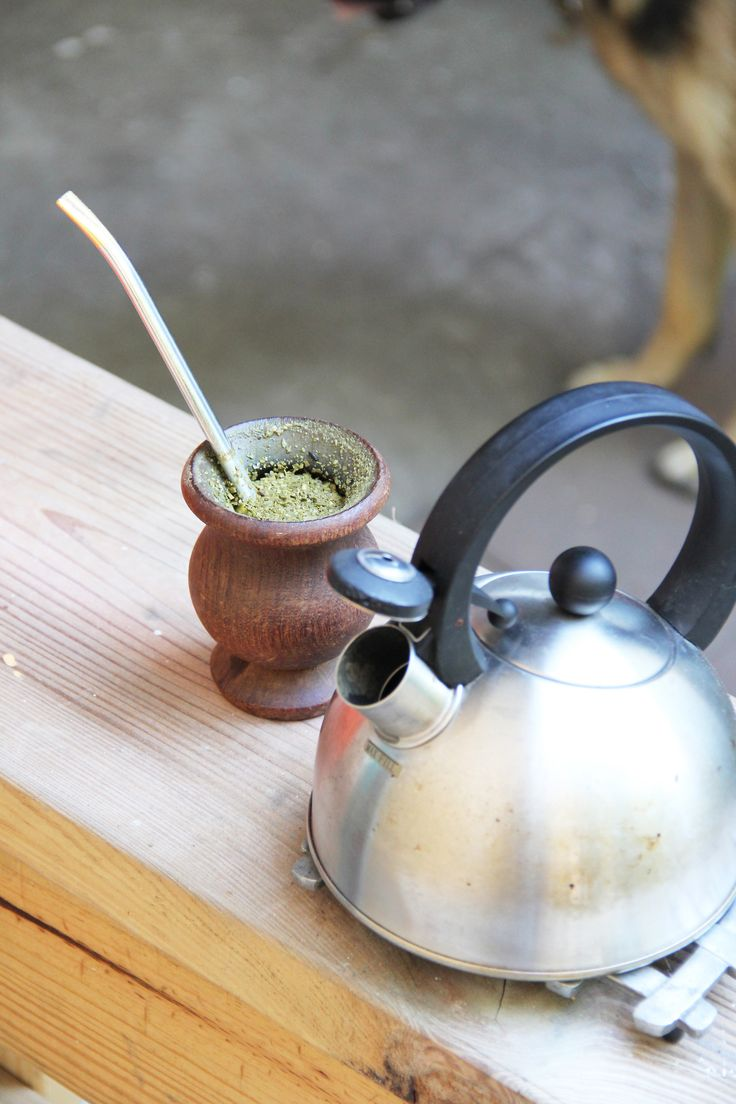guampa: (48, 190, 388, 743)
